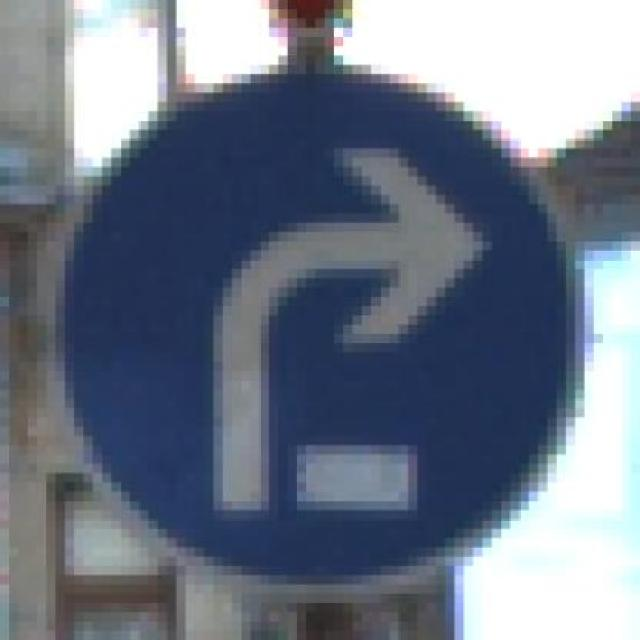Turn right ahead: (56, 56, 584, 584)
